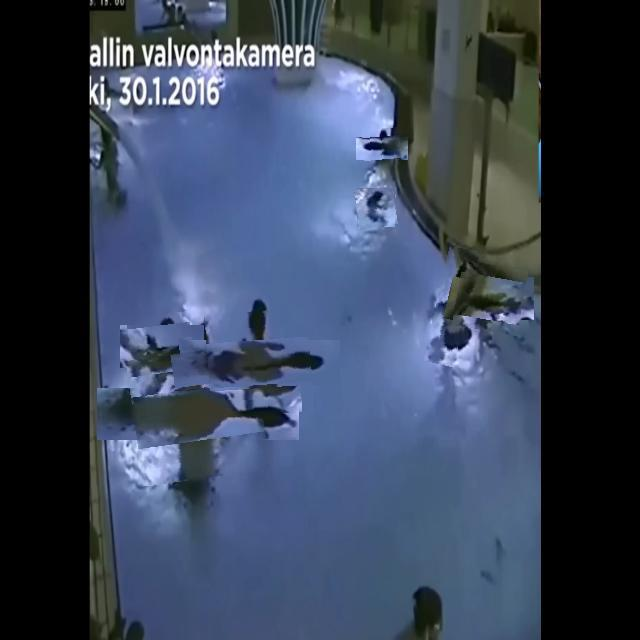Out of Water: (354, 186, 398, 228)
drowning: (130, 347, 266, 482), (206, 309, 313, 416), (454, 262, 526, 334), (430, 247, 473, 367), (128, 312, 195, 380), (362, 128, 402, 168)
